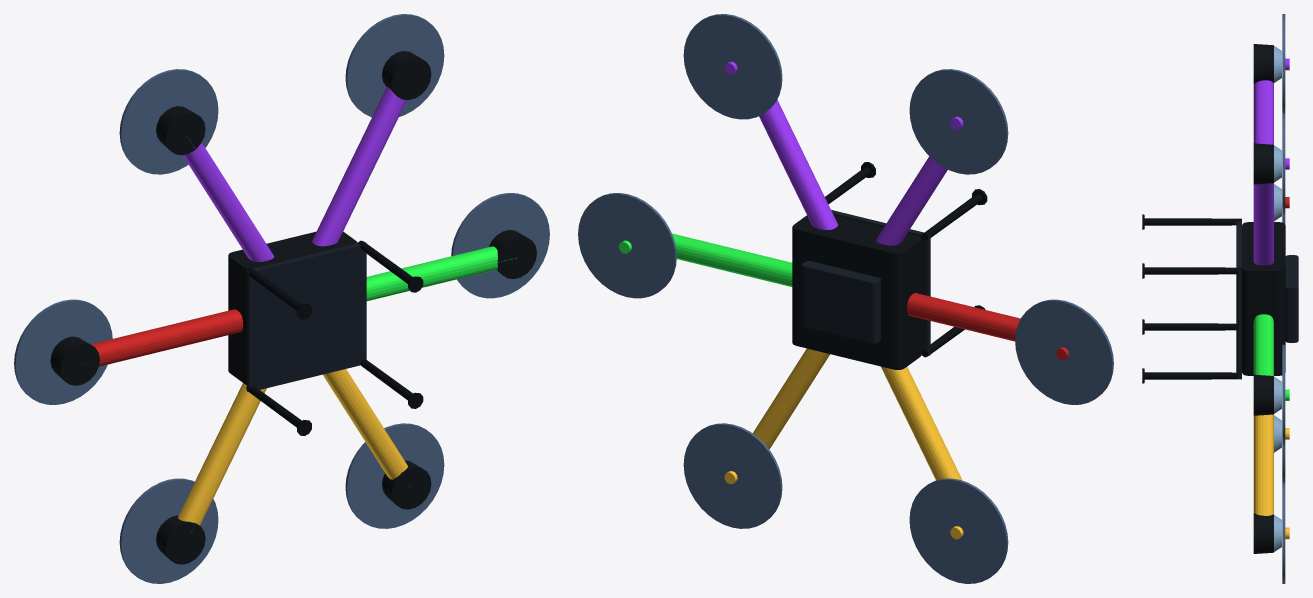
The model's file is px4_hexarotor.obj.
3 renders of one model, left to right at view 1: azimuth 30°, elevation 25°; view 2: azimuth 150°, elevation 25°; view 3: azimuth 270°, elevation 25°, orthographic. The views are drawn at different scales.
Visible parts, largest first — view 1: prop_grey_4, body_dark_0, body_mid_1, purple_metal_2, yellow_metal_6, red_metal_5, leg_dark_8, green_metal_7; view 2: prop_grey_4, body_dark_0, body_mid_1, yellow_metal_6, purple_metal_2, green_metal_7, red_metal_5, leg_dark_8; view 3: body_dark_0, leg_dark_8, purple_metal_2, yellow_metal_6, body_mid_1, prop_grey_4, motor_silver_3, green_metal_7.
Part boxes in pixels (left/top/right/bottom): prop_grey_4: left=14, top=14, right=549, bottom=583; body_dark_0: left=50, top=51, right=536, bottom=564; body_mid_1: left=246, top=242, right=366, bottom=392; purple_metal_2: left=183, top=87, right=406, bottom=261; yellow_metal_6: left=177, top=369, right=407, bottom=531; red_metal_5: left=80, top=309, right=243, bottom=366; leg_dark_8: left=246, top=240, right=423, bottom=435; green_metal_7: left=366, top=246, right=516, bottom=301; prop_grey_4: left=578, top=14, right=1113, bottom=583; body_dark_0: left=792, top=215, right=921, bottom=369; body_mid_1: left=802, top=210, right=930, bottom=355; yellow_metal_6: left=724, top=348, right=963, bottom=539; purple_metal_2: left=724, top=61, right=963, bottom=245; green_metal_7: left=618, top=233, right=792, bottom=286; red_metal_5: left=907, top=293, right=1069, bottom=360; leg_dark_8: left=825, top=162, right=987, bottom=357; body_dark_0: left=1242, top=44, right=1285, bottom=553; leg_dark_8: left=1142, top=214, right=1241, bottom=383; purple_metal_2: left=1253, top=58, right=1289, bottom=265; yellow_metal_6: left=1253, top=414, right=1289, bottom=539; body_mid_1: left=1236, top=221, right=1298, bottom=379; prop_grey_4: left=1282, top=14, right=1285, bottom=583; motor_silver_3: left=1274, top=46, right=1281, bottom=551; green_metal_7: left=1253, top=314, right=1289, bottom=400.
Size of the model in its own units: 1.15 by 1.05 by 0.3235.
